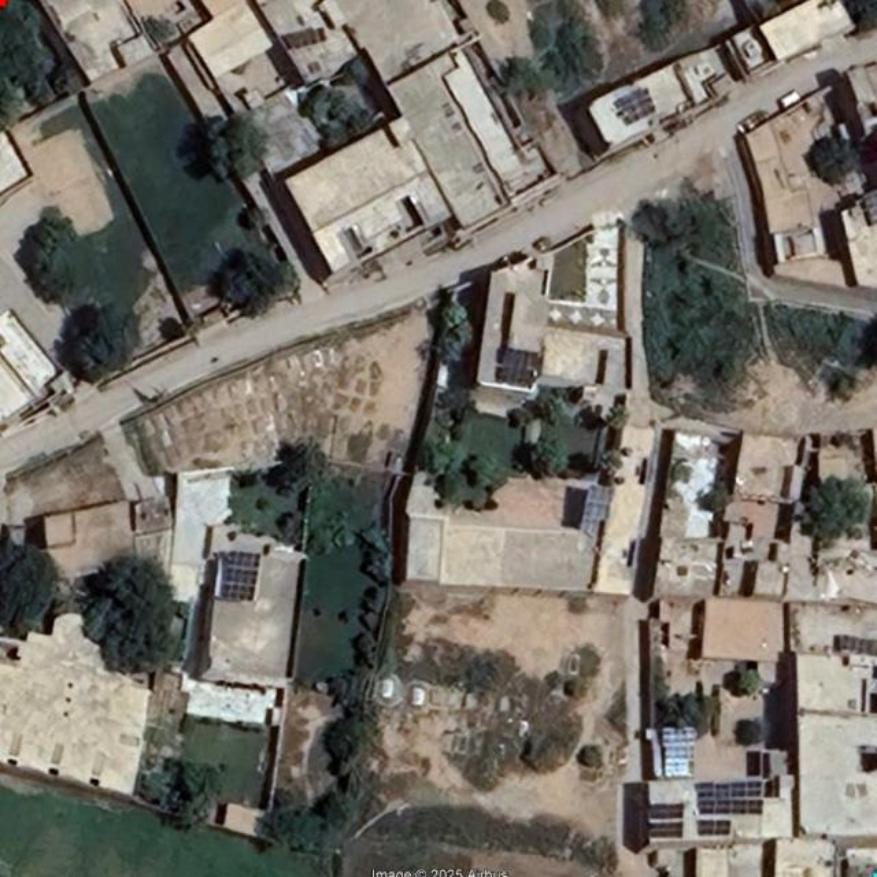Solarpanel: (698, 782, 763, 815), (224, 555, 262, 600), (497, 348, 539, 388), (664, 726, 694, 779), (648, 804, 686, 836), (698, 821, 731, 833)
